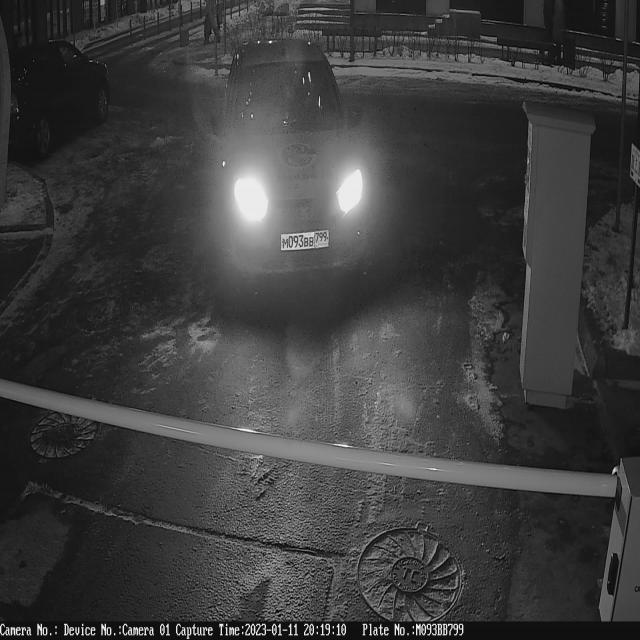car-plate-numbers: (278, 222, 334, 259)
